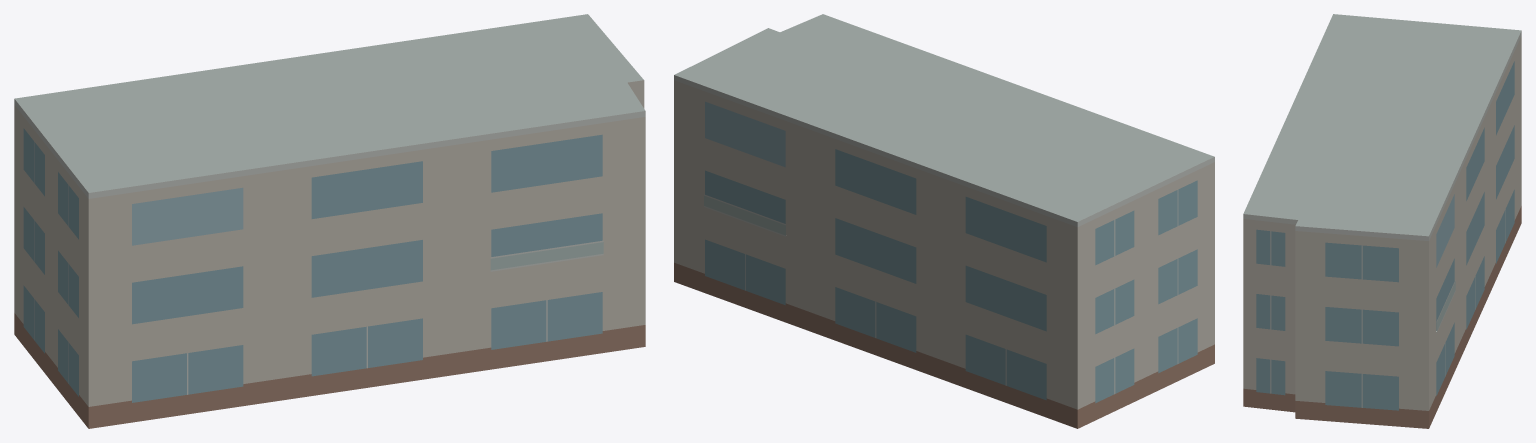
File: survey-upis-32538366.glb
3 renders of one model, left to right at view 1: azimuth 30°, elevation 25°; view 2: azimuth 150°, elevation 25°; view 3: azimuth 270°, elevation 25°, orthographic. The views are drawn at different scales.
Visible parts, largest first — view 1: survey-upis-32538366.tmp; view 2: survey-upis-32538366.tmp; view 3: survey-upis-32538366.tmp.
Boxes of the visible parts, <box> form: survey-upis-32538366.tmp: <box>14,14,645,428</box>; survey-upis-32538366.tmp: <box>674,14,1214,428</box>; survey-upis-32538366.tmp: <box>1243,14,1521,428</box>.
Bounding box in the file's own units: 24.03 × 9.7 × 12.72.
